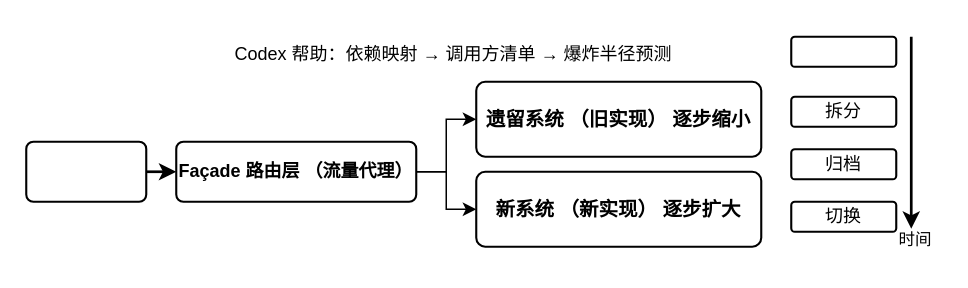
This 968x288 diagram has some shape labels left out. The centre of each missing label's shape, as x and y in pixels:
客户端: the point at 85,171
改造: the point at 843,51
